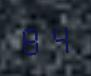eight: (19, 21, 44, 56)
four: (45, 20, 70, 54)
